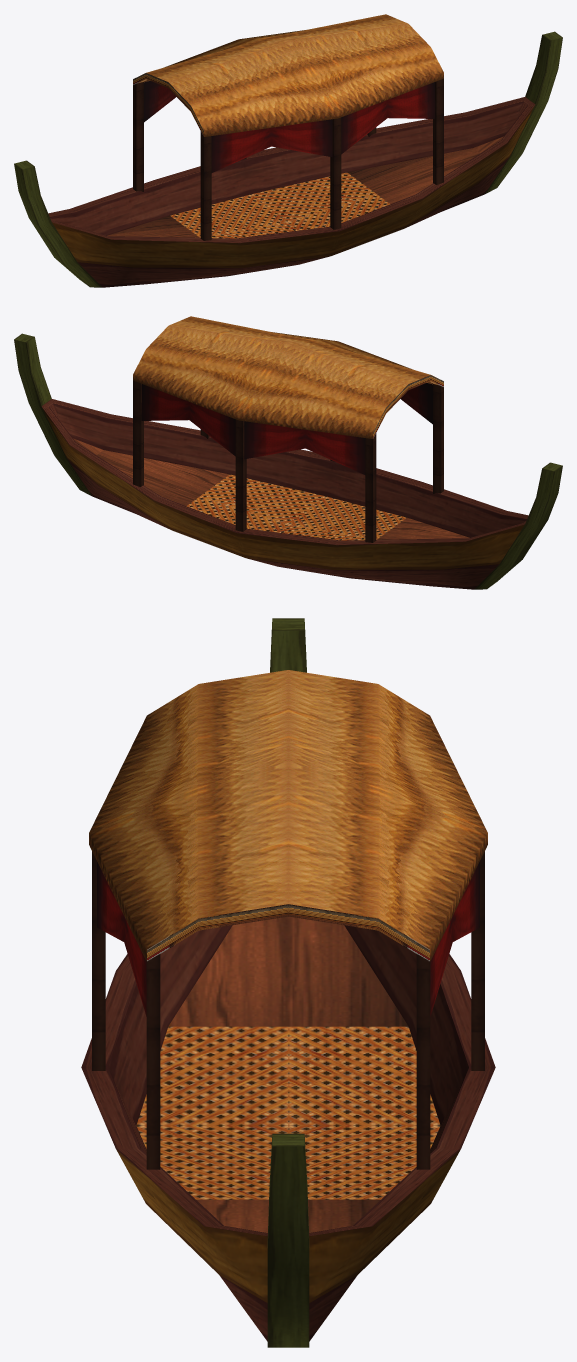
File: Boat_01.FBX
3 renders of one model, top to bottom at view 1: azimuth 30°, elevation 25°; view 2: azimuth 150°, elevation 25°; view 3: azimuth 270°, elevation 25°, orthographic. The views are drawn at different scales.
Visible parts, largest first — view 1: Boat_01; view 2: Boat_01; view 3: Boat_01.
Boxes of the visible parts, bbox=[...] form: Boat_01: bbox=[14, 14, 562, 287]; Boat_01: bbox=[14, 316, 562, 589]; Boat_01: bbox=[81, 618, 495, 1347].
Bounding box in the file's own units: 7.25 × 2.41 × 2.77.
